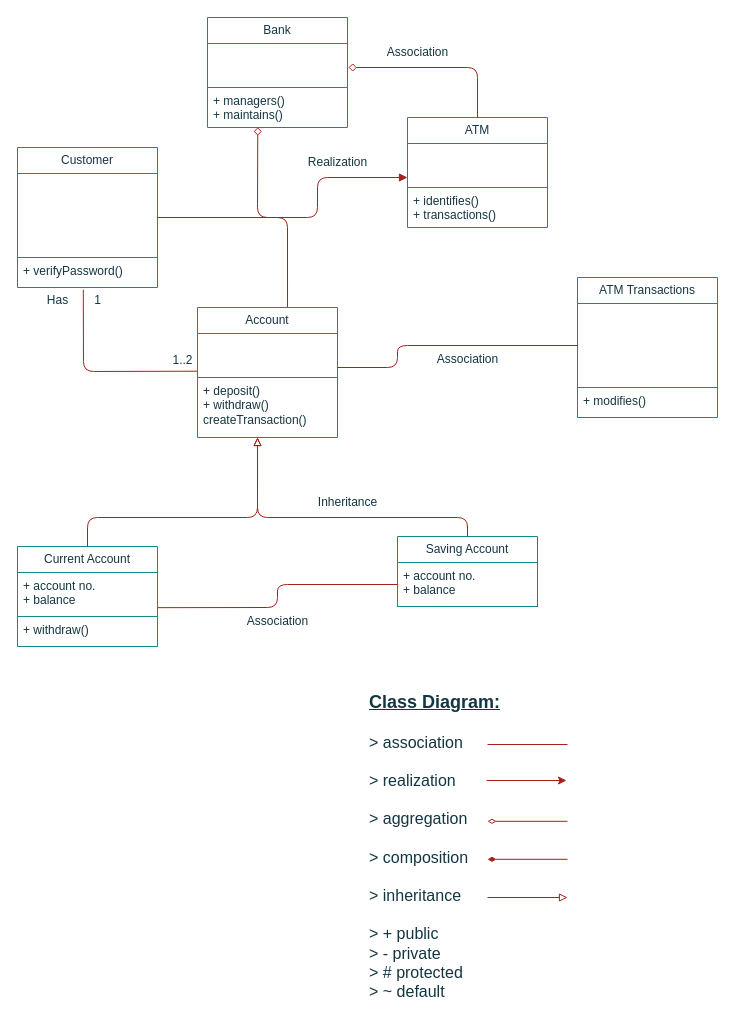
Image size: 735x1024. Some labels were removed from this diagram. The shapes that lost their labels are listed below. From the top down, each one's centre as x and y in pixels, then its label:
At [277,65]: "+ code + address".
At [477,165]: "+ location + managedby".
At [87,215]: "+ name + address + dob + card number + pin".
At [267,355]: "+ number + balance".
At [647,345]: "+ transaction id + date + type + amount + post balance".
